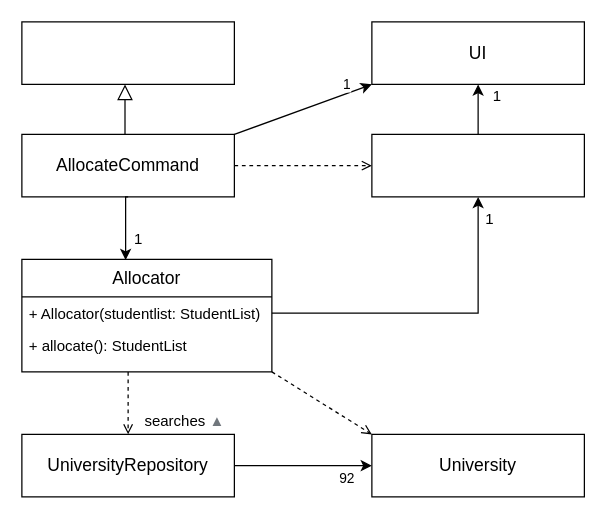
This 606x519 diagram has some shape labels left out. Here are the shapes that lost their labels. From the top down, the centre of each, then its label:
At (x=127, y=52): "{abstract} Command".
At (x=477, y=165): "StudentList".
